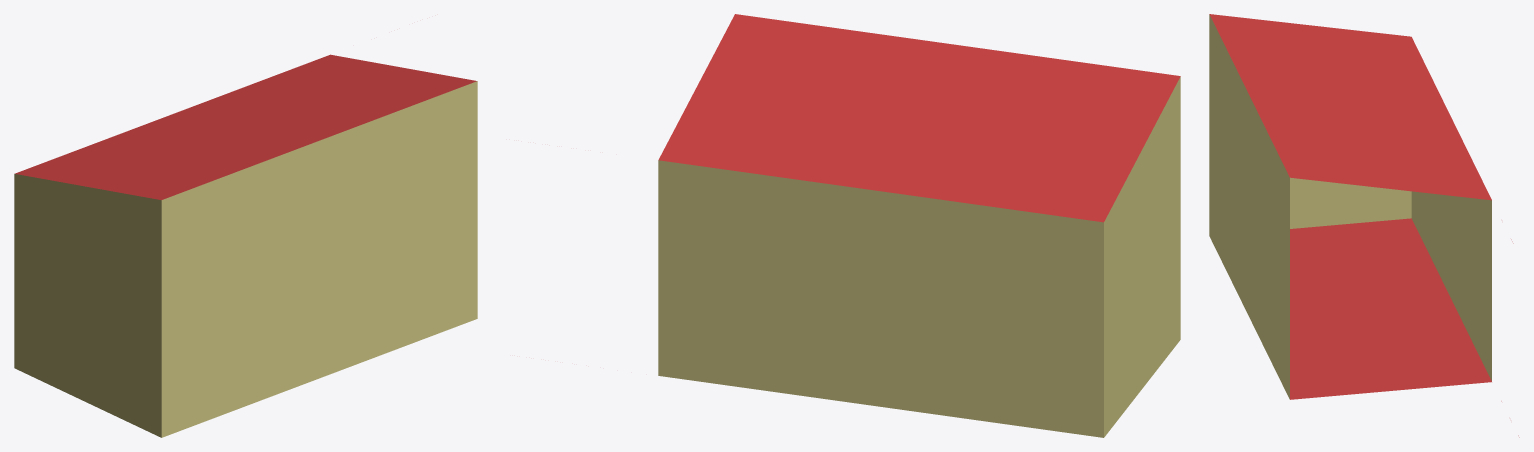
3 renders of one model, left to right at view 1: azimuth 30°, elevation 25°; view 2: azimuth 150°, elevation 25°; view 3: azimuth 270°, elevation 25°, orthographic. The views are drawn at different scales.
Size of the model in its own units: 14.18 by 8.47 by 6.69.
